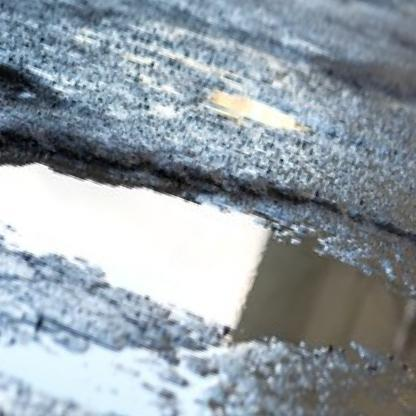pothole: (0, 68, 416, 416), (0, 23, 83, 133)
